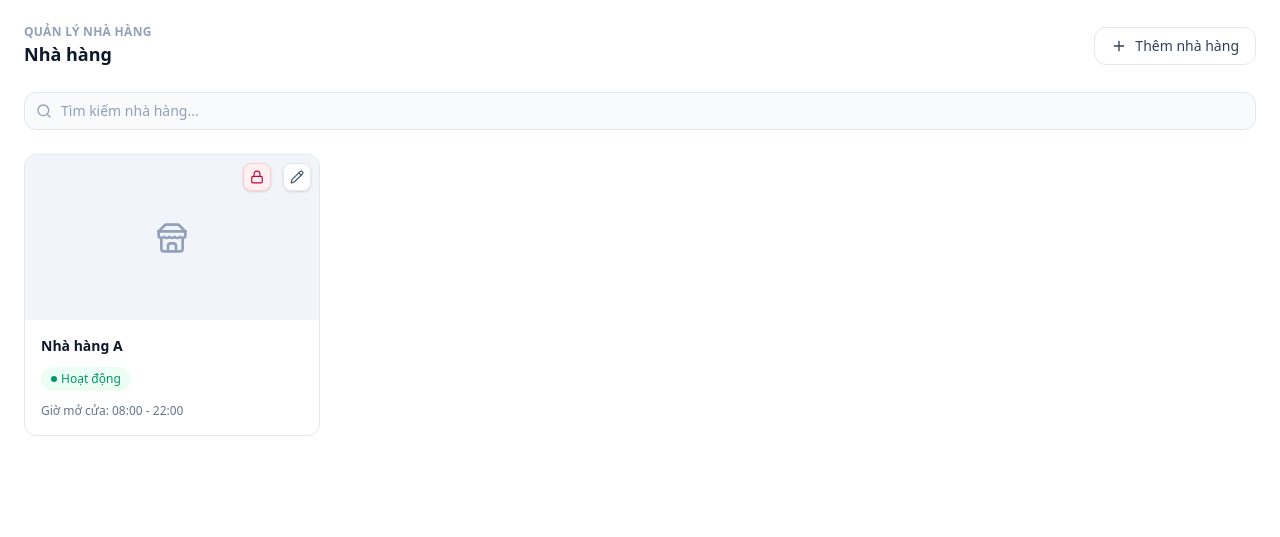
Scenario: Integration: Tenant Restaurant Management Flow › opens create restaurant modal from list view
The image size is (1280, 537).
Check: the text "Nhà hàng A" is shown, box [41,336,123,355]
Step 1. Click the button "Thêm nhà hàng" → (1175, 46), box [1094,27,1256,65]
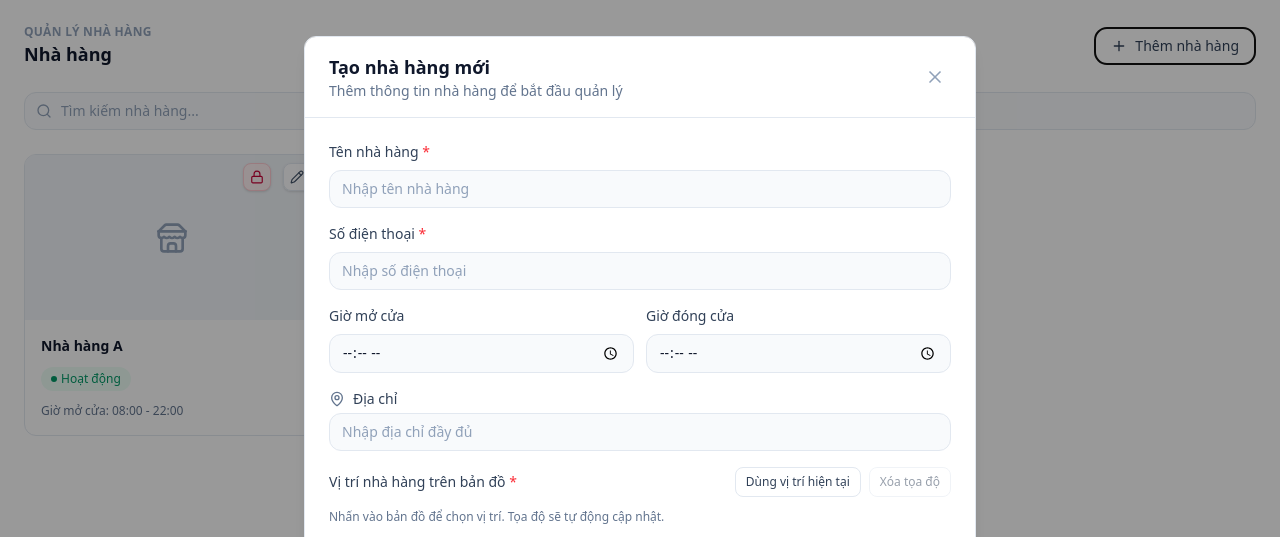
Check: the heading "Tạo nhà hàng mới" is shown, box [329,55,490,79]
Check: the field labelled "Tên nhà hàng *" is shown, box [329,170,951,208]
